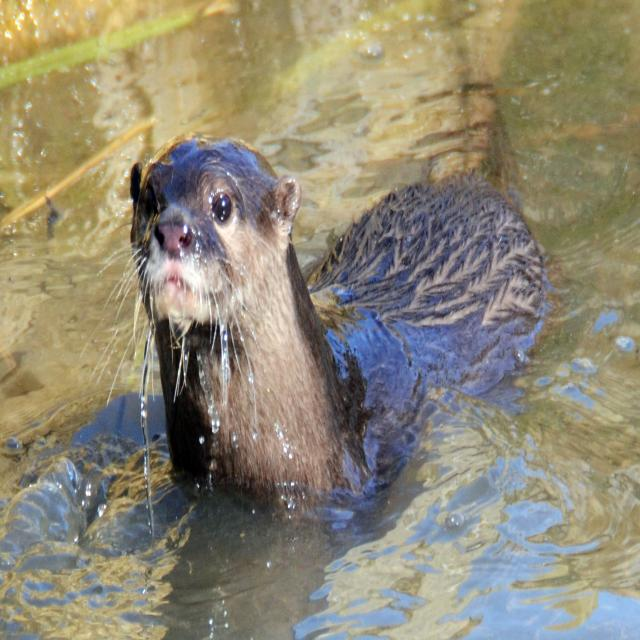otter: (132, 138, 342, 495)
